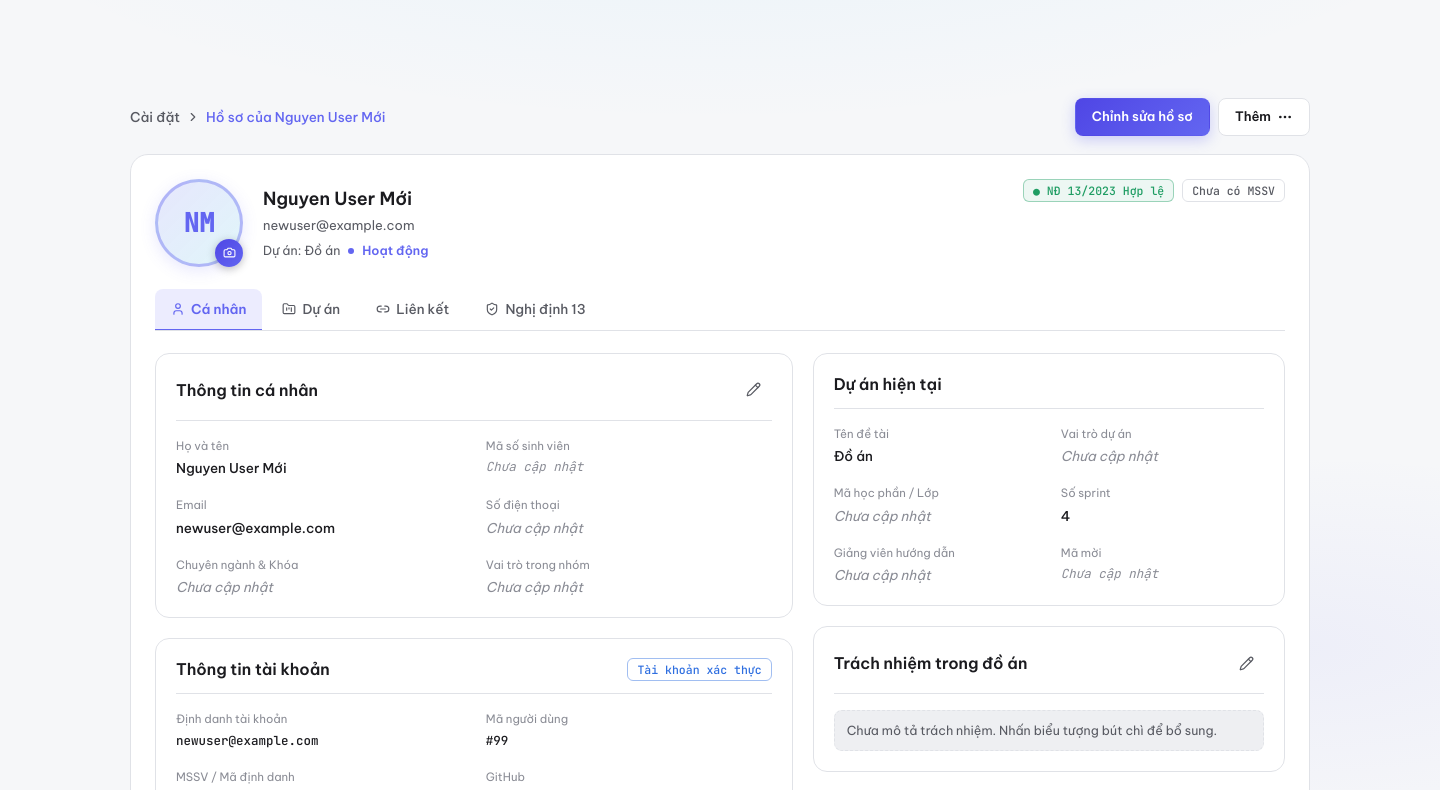
Test: ProfileSettingsPage Component Tests › loads consent status from backend and allows revoking it
Expected: the text "● NĐ 13/2023 Hợp lệ" is shown, [1023,178,1174,202]
What coordinates should you click on to do the following:
click the tab "Nghị định 13"
I would click on:
 (536, 310)
Its box is [469,288,602,331].
(page scrolled)
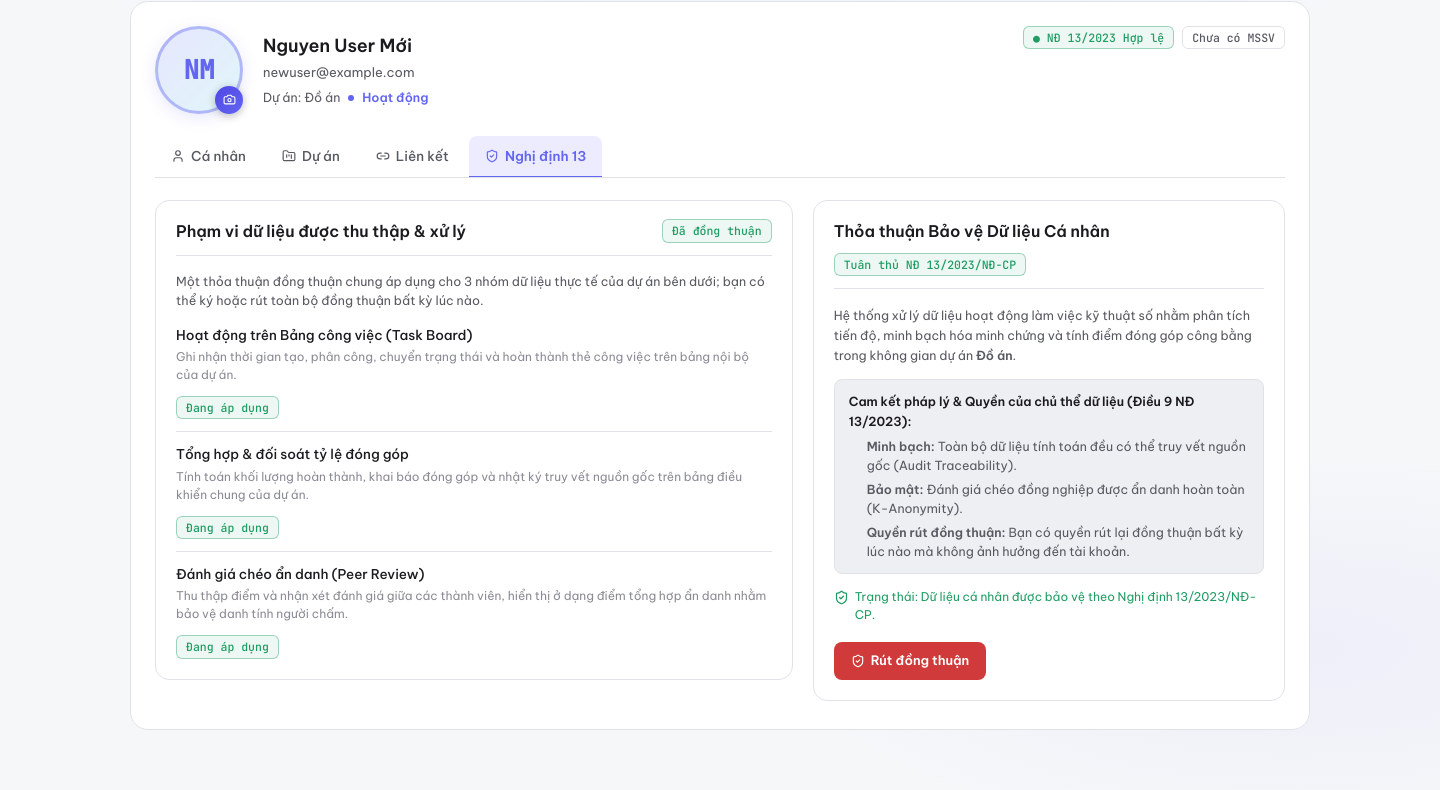
What coordinates should you click on to do the following:
click the button "Rút đồng thuận"
I would click on:
 (910, 661)
Its box is [834,642,986,680].
(page scrolled)
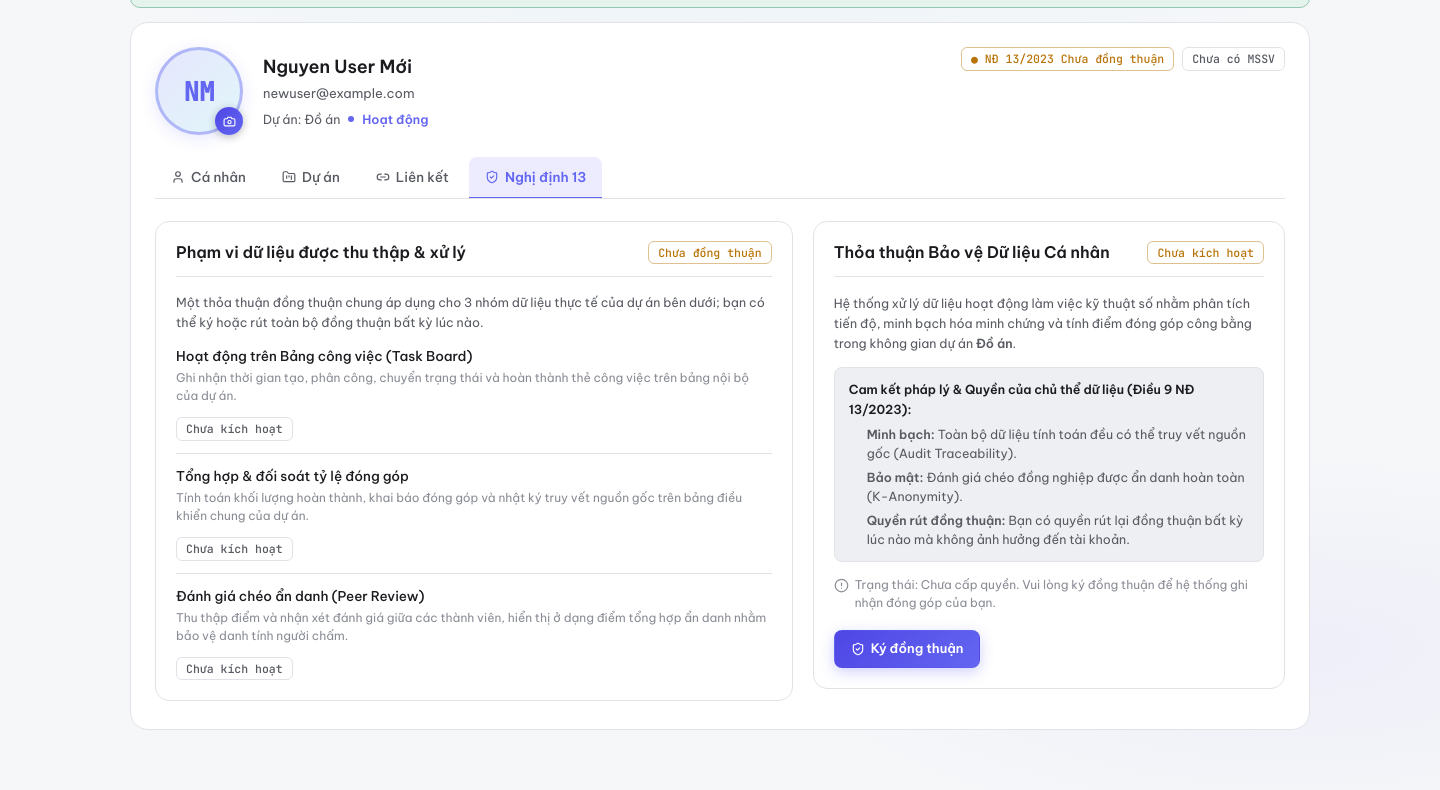
Now the button "Ký đồng thuận" is shown, box [834,630,980,668]
